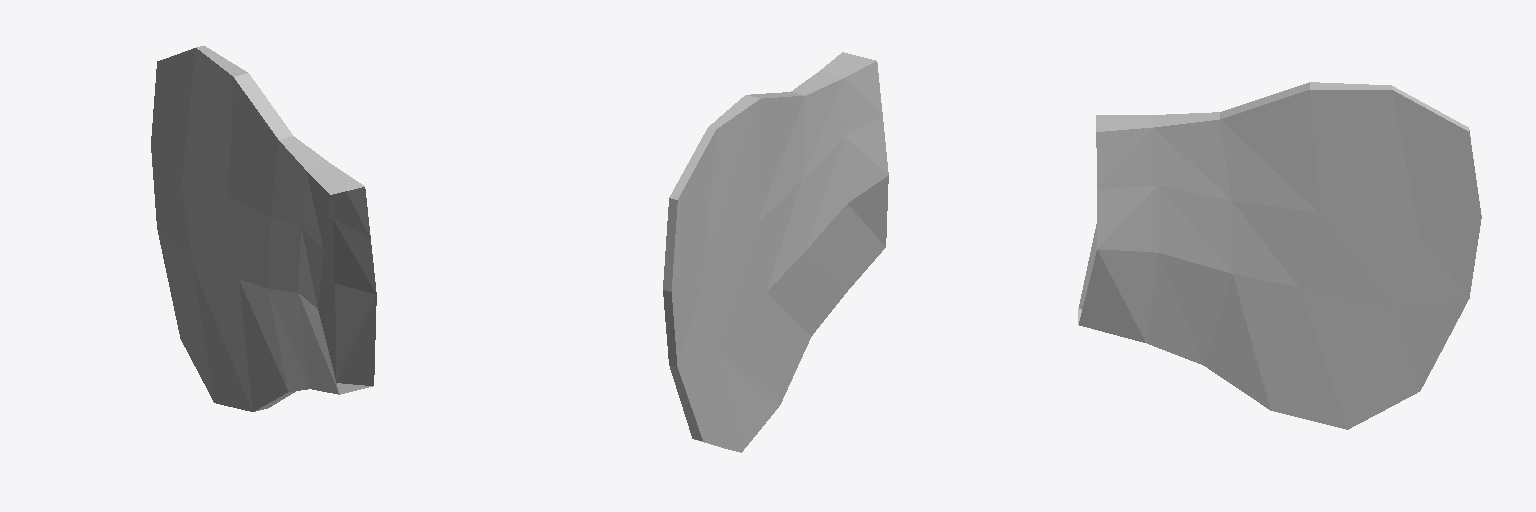
The model's file is cola.obj.
3 renders of one model, left to right at view 1: azimuth 30°, elevation 25°; view 2: azimuth 150°, elevation 25°; view 3: azimuth 270°, elevation 25°, orthographic.
Visible parts, largest first — view 1: polySurface2 TropicalFish12; view 2: polySurface2 TropicalFish12; view 3: polySurface2 TropicalFish12.
Part boxes in pixels (left/top/right/bottom): polySurface2 TropicalFish12: left=151, top=46, right=376, bottom=411; polySurface2 TropicalFish12: left=663, top=52, right=888, bottom=452; polySurface2 TropicalFish12: left=1078, top=82, right=1481, bottom=429.
Size of the model in its own units: 2.03 by 11.24 by 12.06.